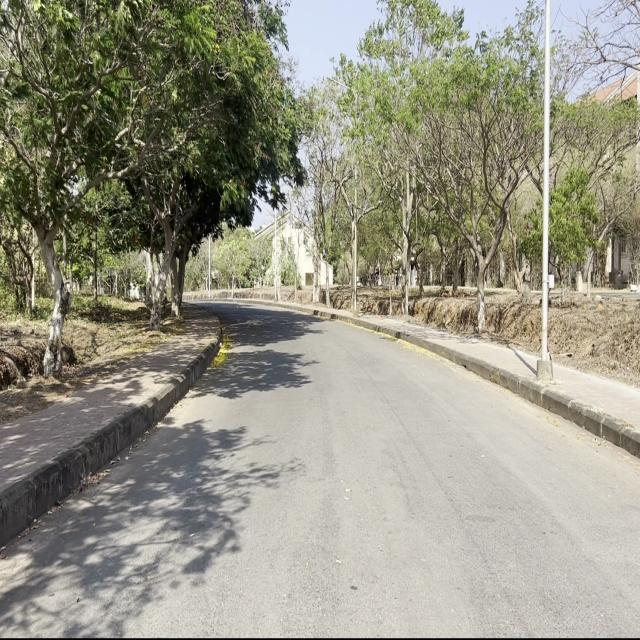Road: (3, 302, 636, 633)
